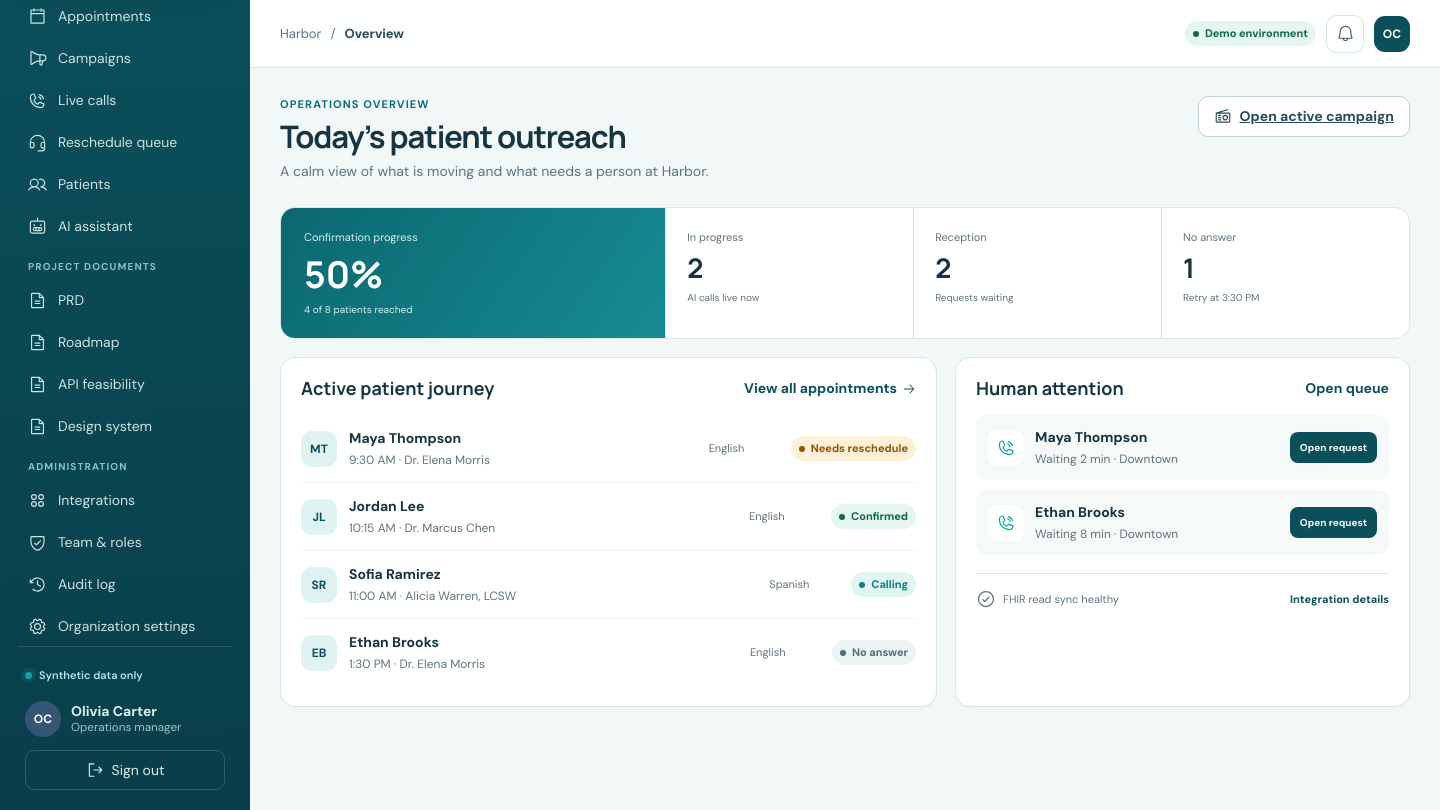
Test: AppShell › signs out, clears the demo session, and returns to the login screen
(page scrolled)
What coordinates should you click on to do the following:
click the button "Sign out"
I would click on:
 (125, 770)
Its box is x1=25 y1=750 x2=225 y2=790.
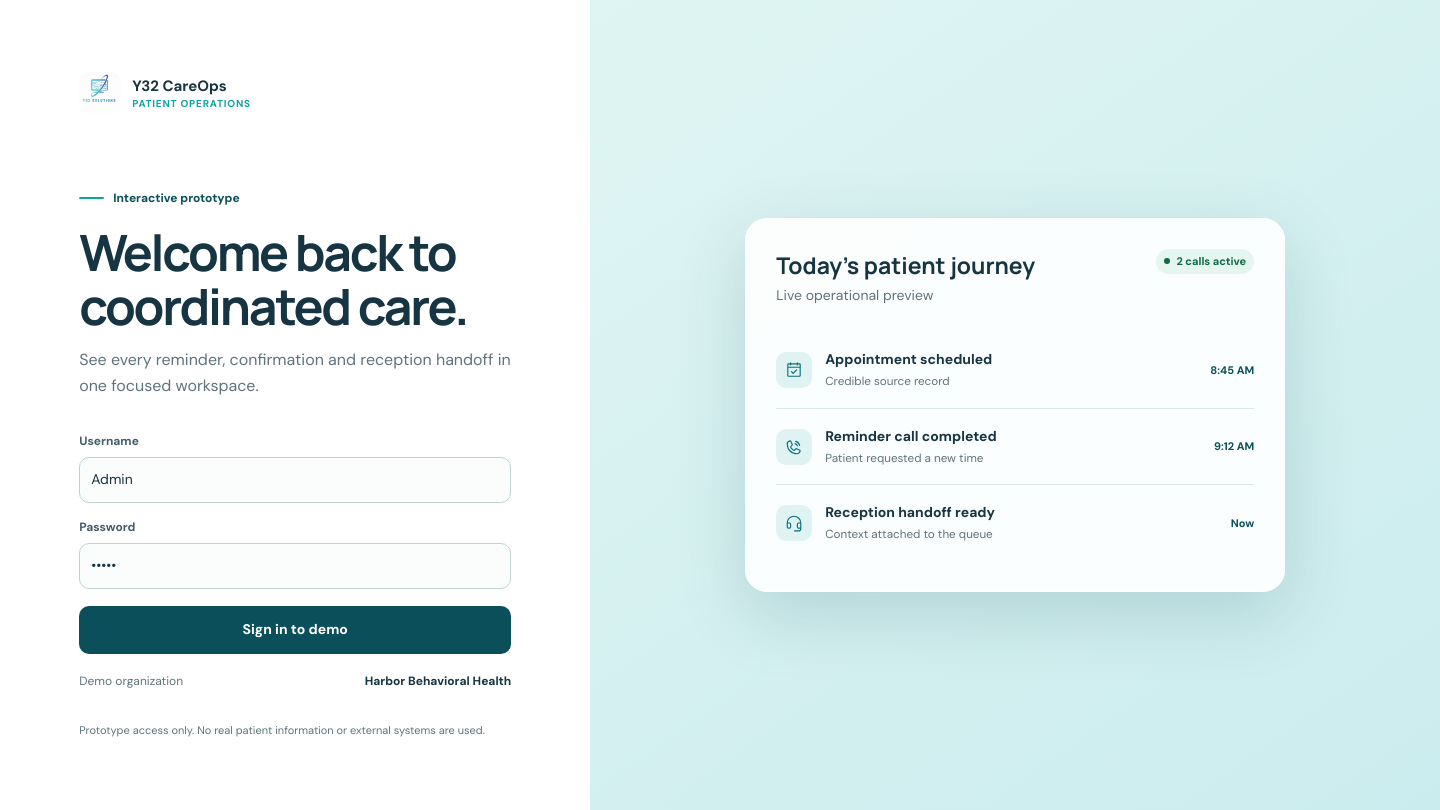
Expected: the heading "Welcome back to coordinated care." is shown, x1=79 y1=225 x2=511 y2=333
